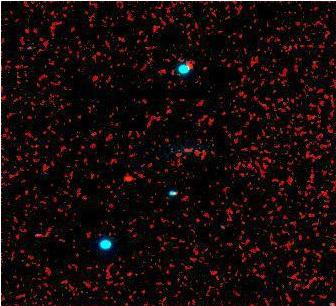star: (113, 164, 143, 194)
